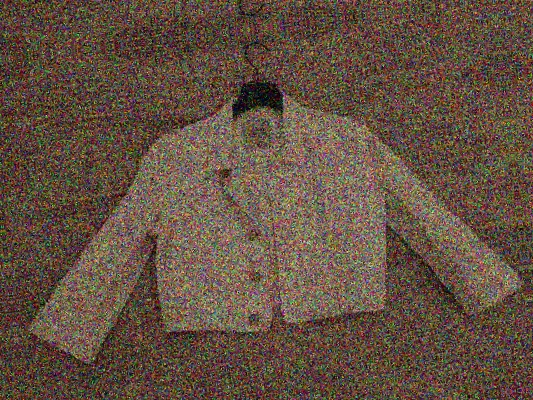Blazer: (9, 60, 518, 400), (518, 0, 533, 341), (0, 123, 4, 400), (0, 0, 469, 1)
